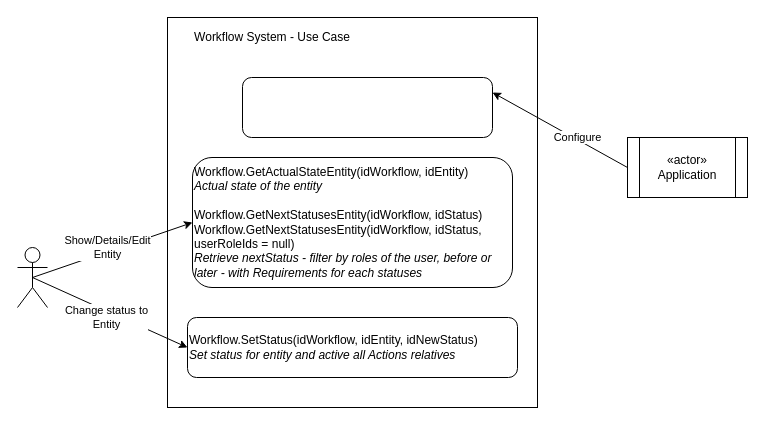
This 765x425 diagram has some shape labels left out. The centre of each missing label's shape, as x and y in pixels:
"User" belongs at [32,277].
"Workflow.Configure() Retrieve all workflows for the applications" belongs at [367,107].
